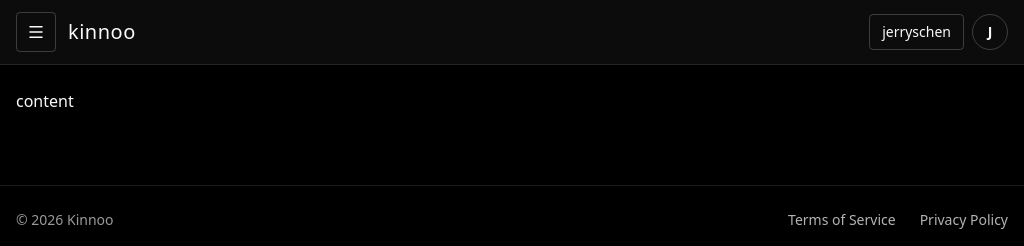
Scenario: MainLayout › renders tenant button and profile menu when authenticated
The width and height of the screenshot is (1024, 246).
expect the link "jerryschen" is shown: met, box [869,14,964,50]
Click the button named "open profile menu".
click(990, 32)  # box [972,14,1008,50]
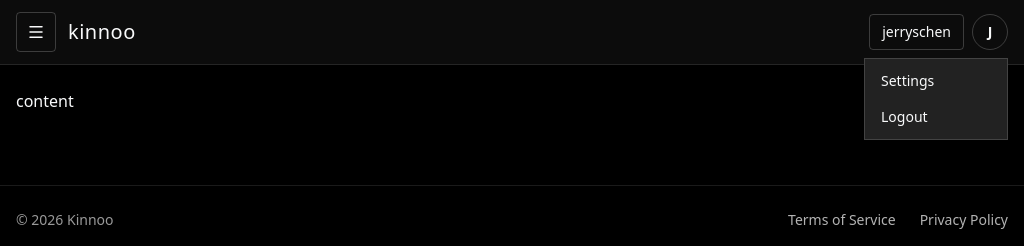
expect the link "Settings" is shown: met, box [881,71,934,90]
expect the button "Logout" is shown: met, box [865,99,1007,135]
